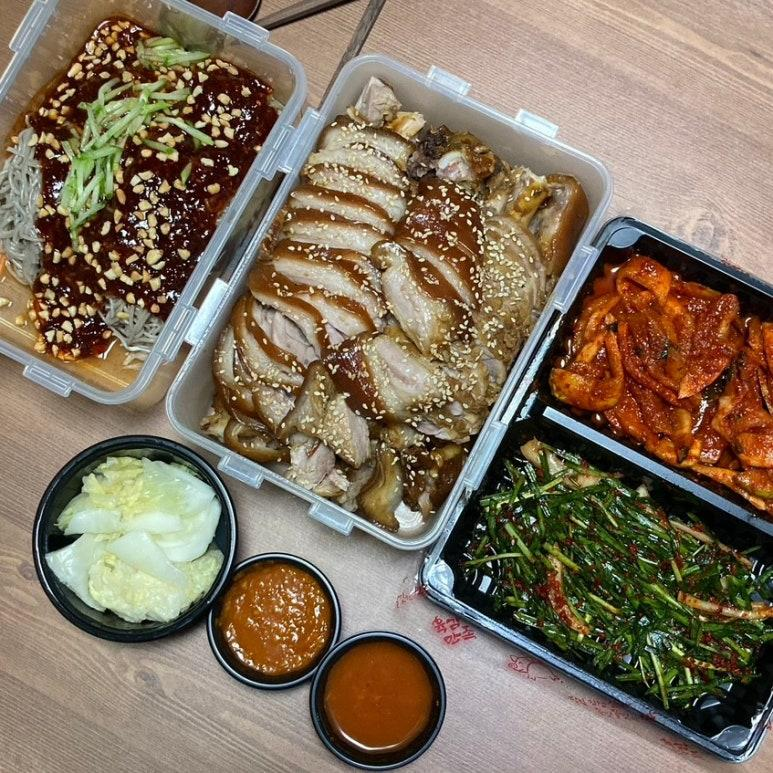Lunch Box: (166, 55, 611, 550), (421, 217, 772, 760), (0, 0, 306, 404), (32, 436, 237, 642)
cup: (310, 631, 445, 771), (207, 553, 340, 689)
